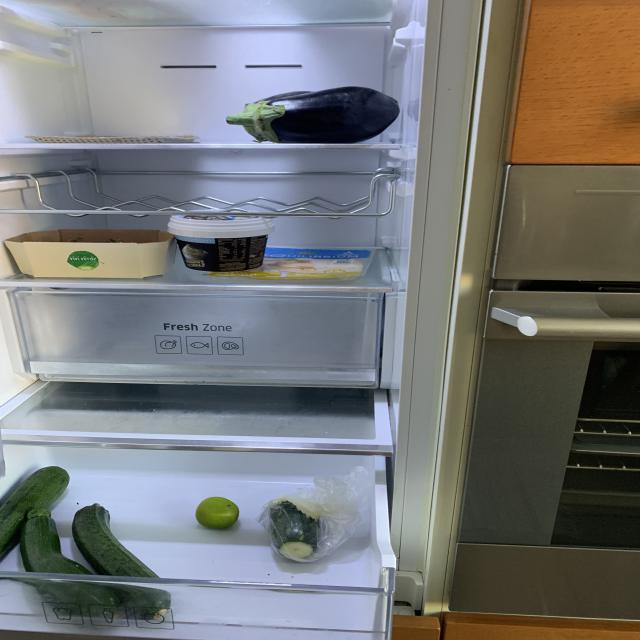aubergine: (218, 84, 404, 145)
courgettes: (0, 466, 172, 617), (269, 496, 320, 560)
ham: (265, 258, 364, 274)
lime: (192, 496, 243, 532)
yoghurt: (168, 214, 281, 272)
